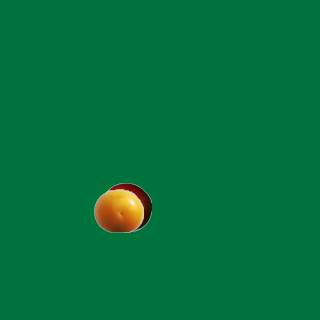Apple Braeburn: (101, 182, 151, 232)
Cherry Wax Yellow: (93, 185, 143, 235)
